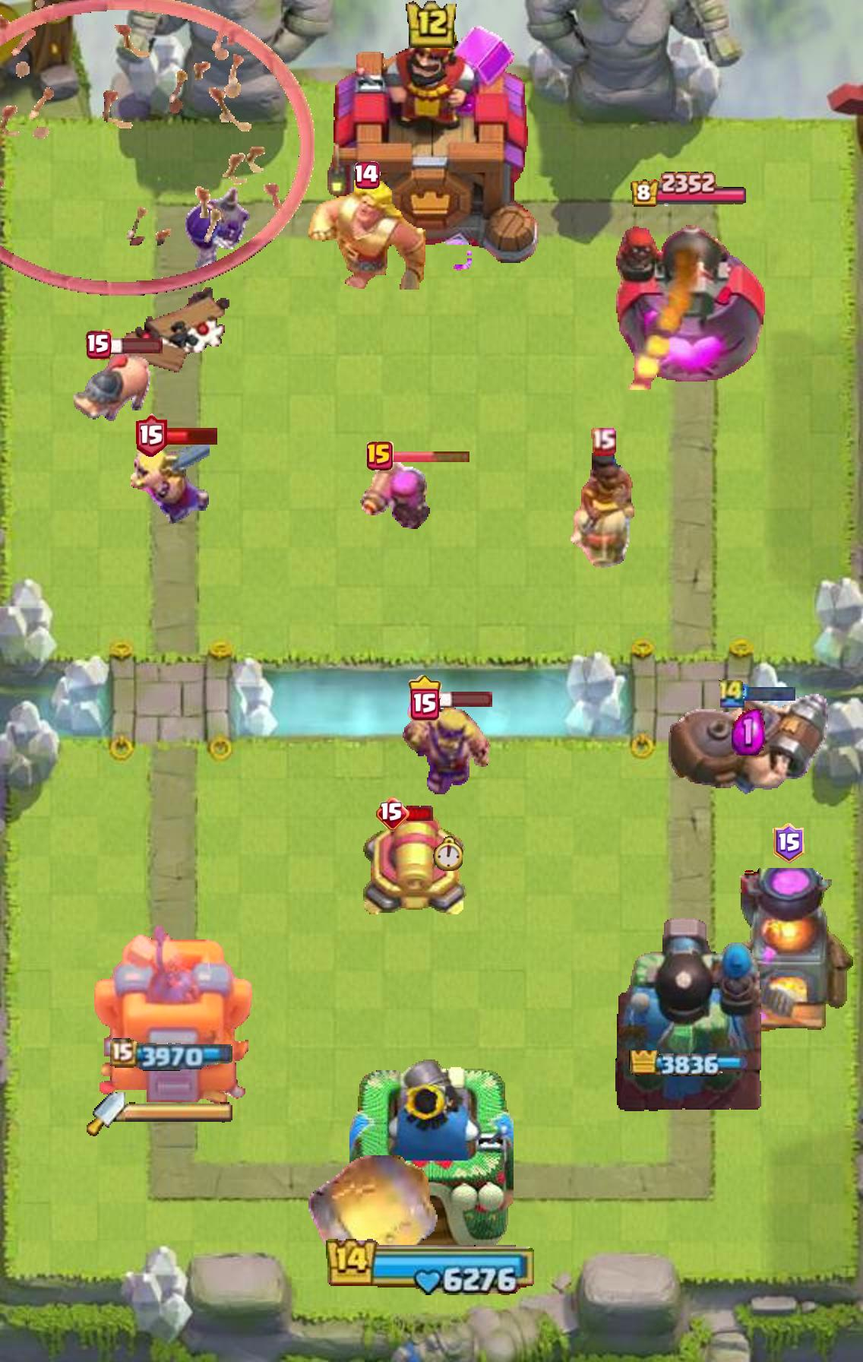bar: (390, 449, 472, 463), (163, 426, 220, 445), (438, 689, 493, 708), (109, 336, 163, 354), (406, 805, 435, 823)
bar-level: (408, 675, 443, 721), (135, 413, 167, 458), (773, 824, 805, 864), (376, 797, 411, 831), (85, 329, 112, 361), (366, 442, 394, 470), (354, 161, 381, 189), (590, 427, 616, 456)
